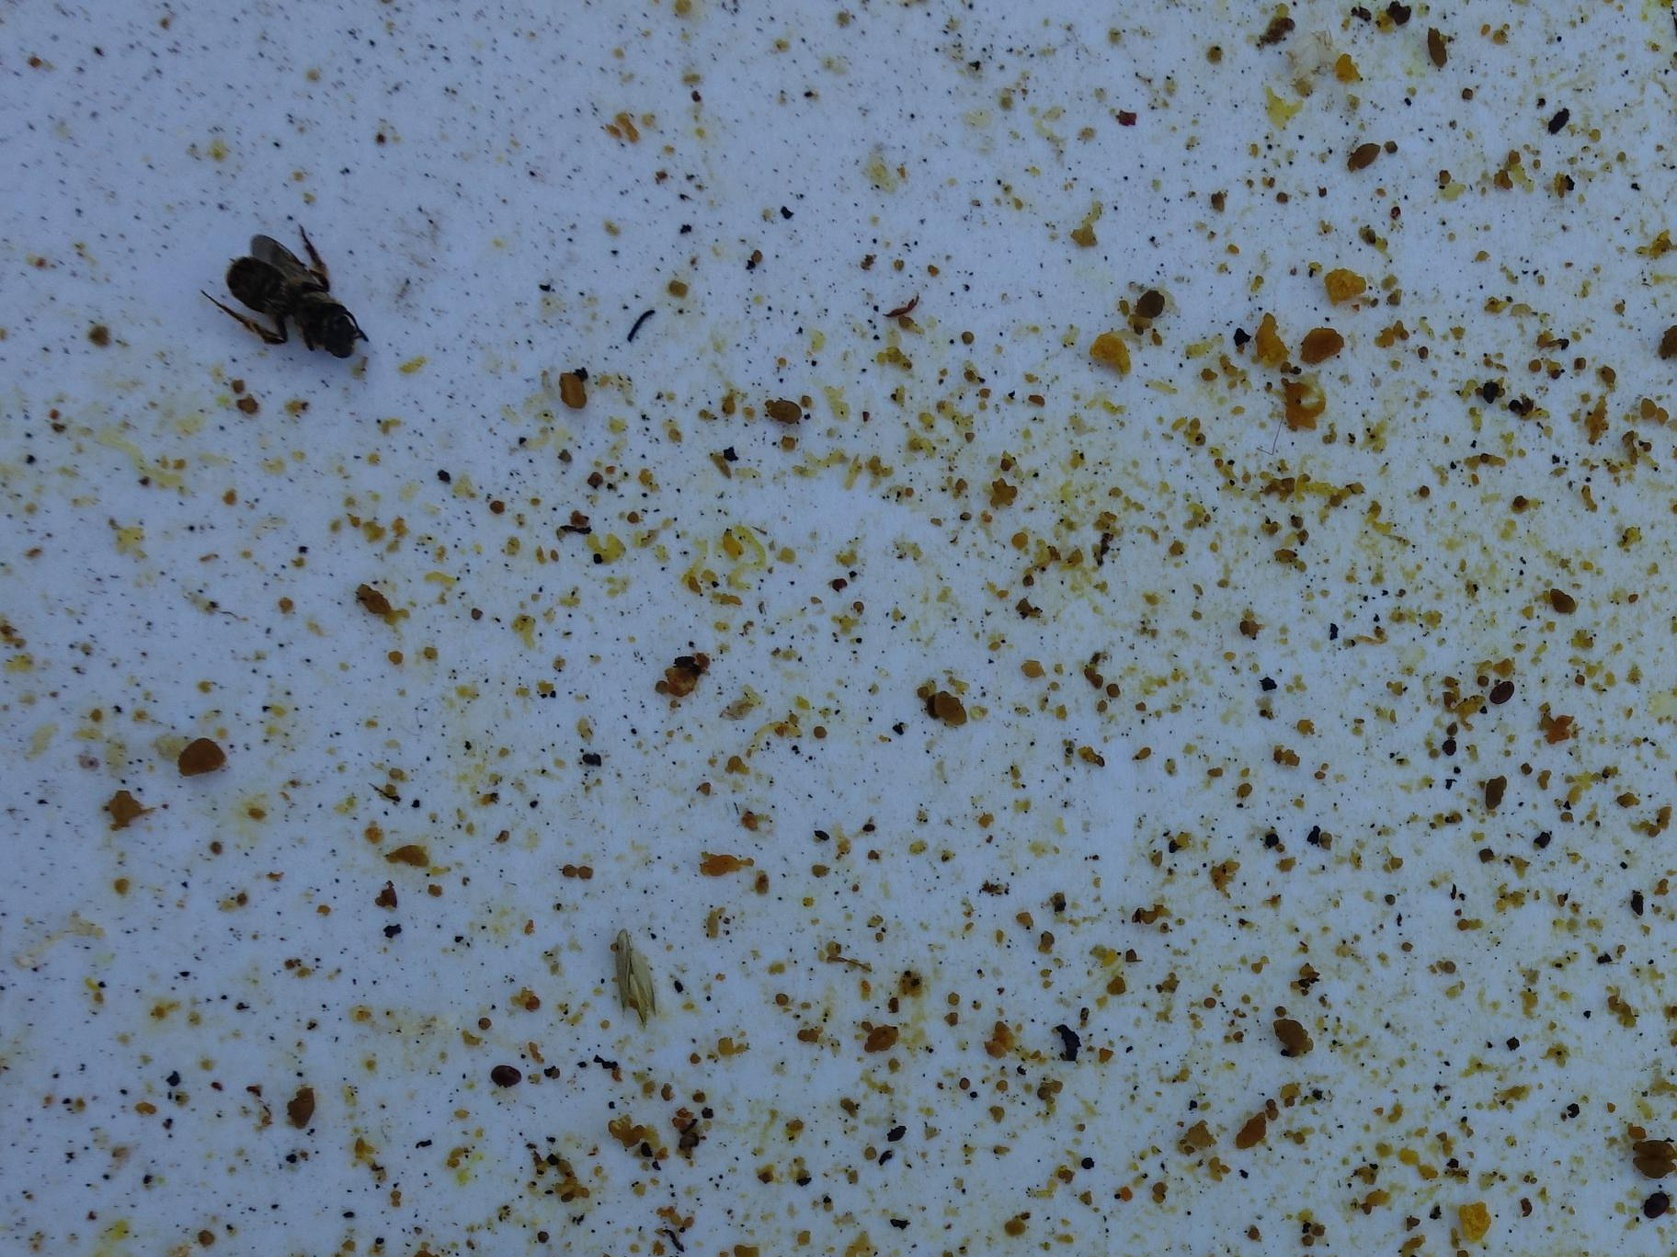Varroa: (765, 390, 805, 430), (485, 1067, 524, 1108), (1482, 676, 1516, 712), (1633, 1192, 1666, 1228)
